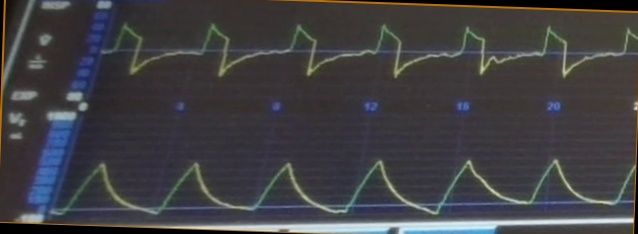Premature_cycling Flow: (107, 19, 636, 91)
Premature_cycling Volume: (65, 150, 632, 215)
